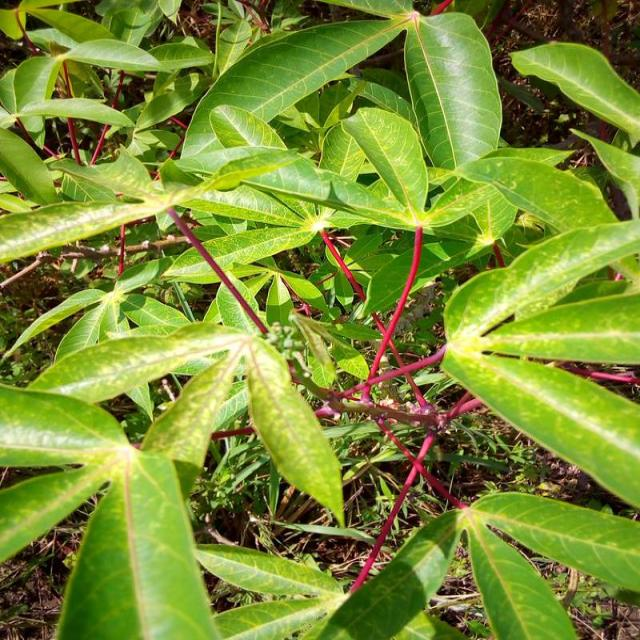cassava leaf: (1, 2, 638, 638), (439, 340, 639, 509)
